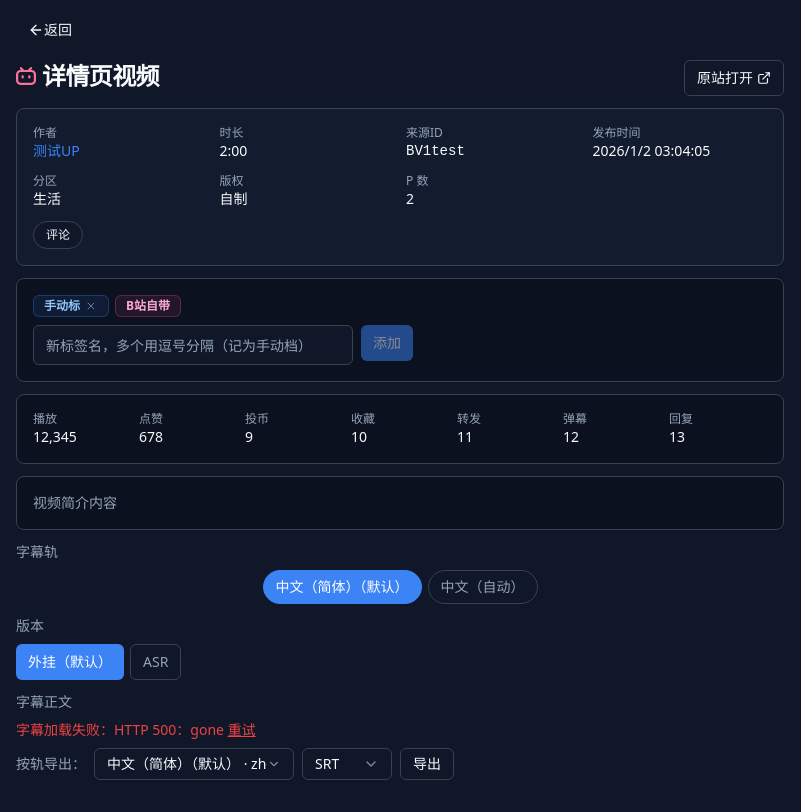
字幕正文加载失败 → 错误 + 重试恢复
The width and height of the screenshot is (801, 812).
Check: the text "详情页视频" is shown, box [42,60,159,92]
Check: the text "字幕加载失败：HTTP 500：gone 重试" is shown, box [16,720,256,740]
Click the button "重试".
click(242, 730)  # box [228,720,256,740]
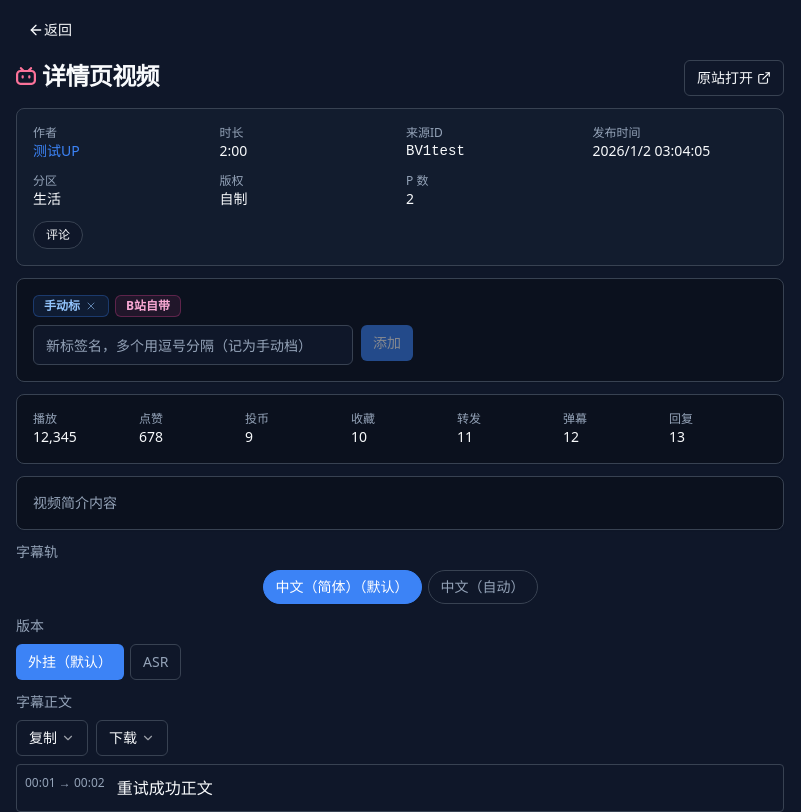
Check: the text "重试成功正文" is shown, box [117,775,213,801]
